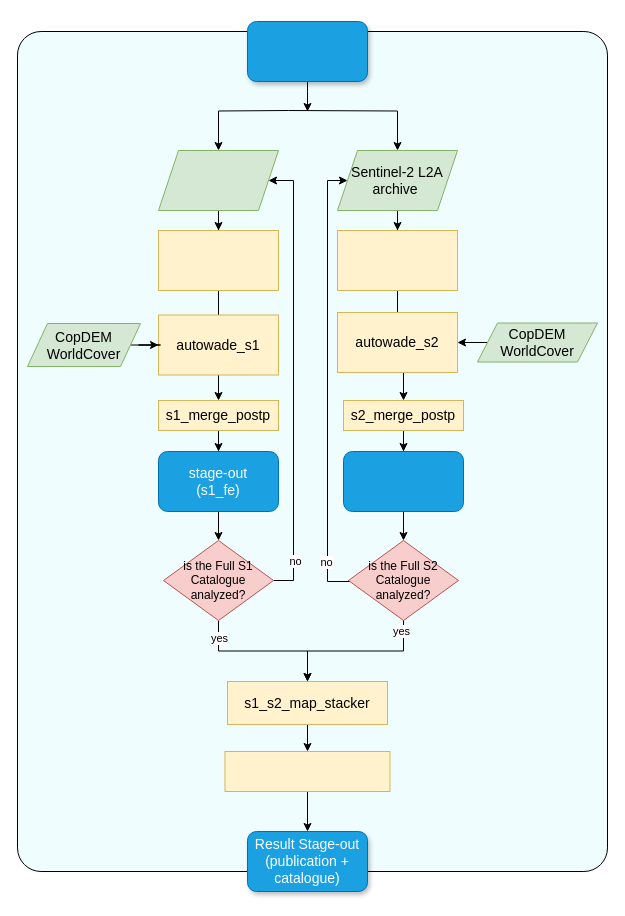
This 625x916 diagram has some shape labels left out. The centre of each missing label's shape, as x and y in pixels:
"flood_freq_computation" goes at [307,771].
"Sentinel-1 GRD archive" goes at [218,180].
"Sentinel-1 preprocessing" goes at [218,260].
"Sentinel-2 preprocessing" goes at [397,260].
"stage-out (s2_fe)" goes at [403,481].
"User insertion: - AOI" goes at [308,52].
